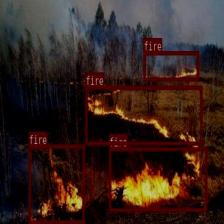fire: (85, 85, 202, 144), (108, 147, 206, 211), (28, 144, 85, 224), (143, 51, 198, 81)
